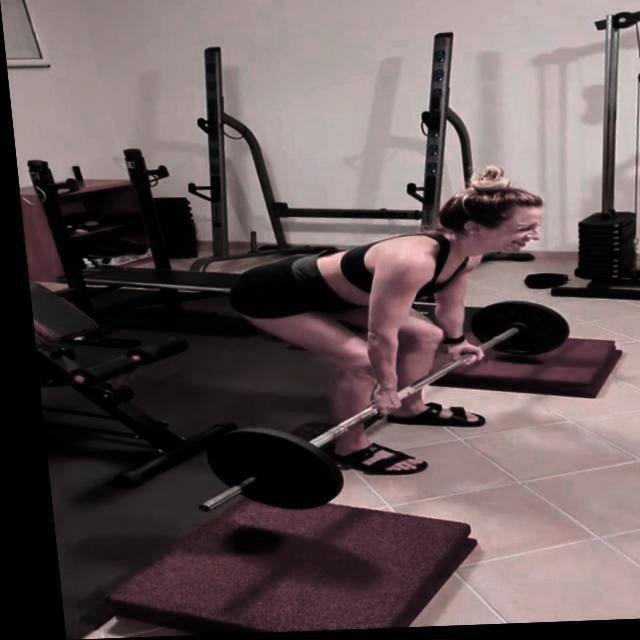barbell: (175, 422, 337, 520)
